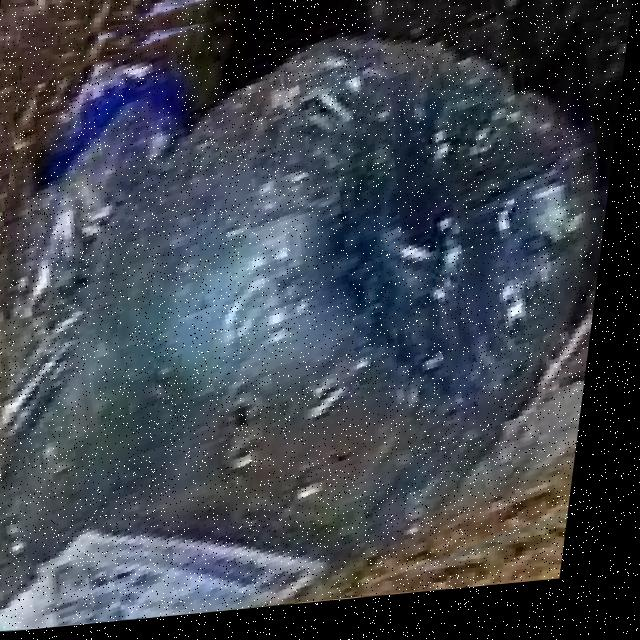litter: (0, 1, 609, 634)
